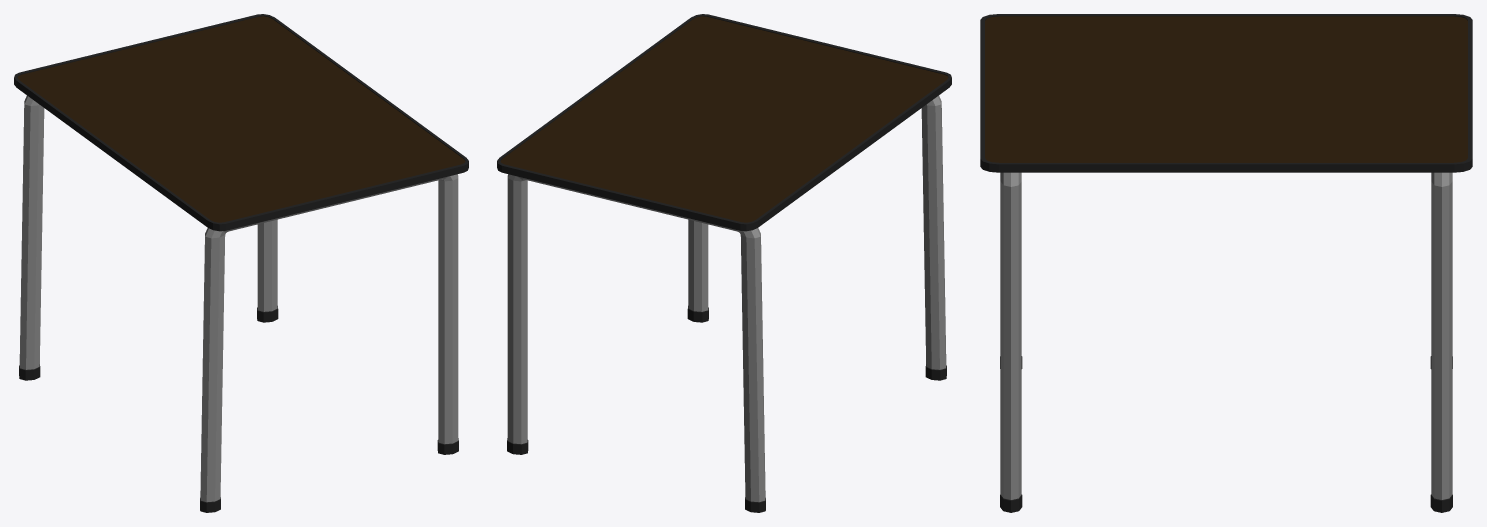
File: Table.fbx
3 renders of one model, left to right at view 1: azimuth 30°, elevation 25°; view 2: azimuth 150°, elevation 25°; view 3: azimuth 270°, elevation 25°, orthographic. The views are drawn at different scales.
Parts seen in each view (by area): view 1: TableTop, Legs; view 2: TableTop, Legs; view 3: TableTop, Legs.
Boxes of the visible parts, x1=… form: TableTop: x1=14, y1=14, x2=468, y2=231; Legs: x1=19, y1=95, x2=458, y2=512; TableTop: x1=497, y1=14, x2=951, y2=231; Legs: x1=507, y1=95, x2=946, y2=512; TableTop: x1=980, y1=14, x2=1472, y2=172; Legs: x1=1000, y1=172, x2=1452, y2=512.
Bounding box in the file's own units: 674 × 725 × 924.
